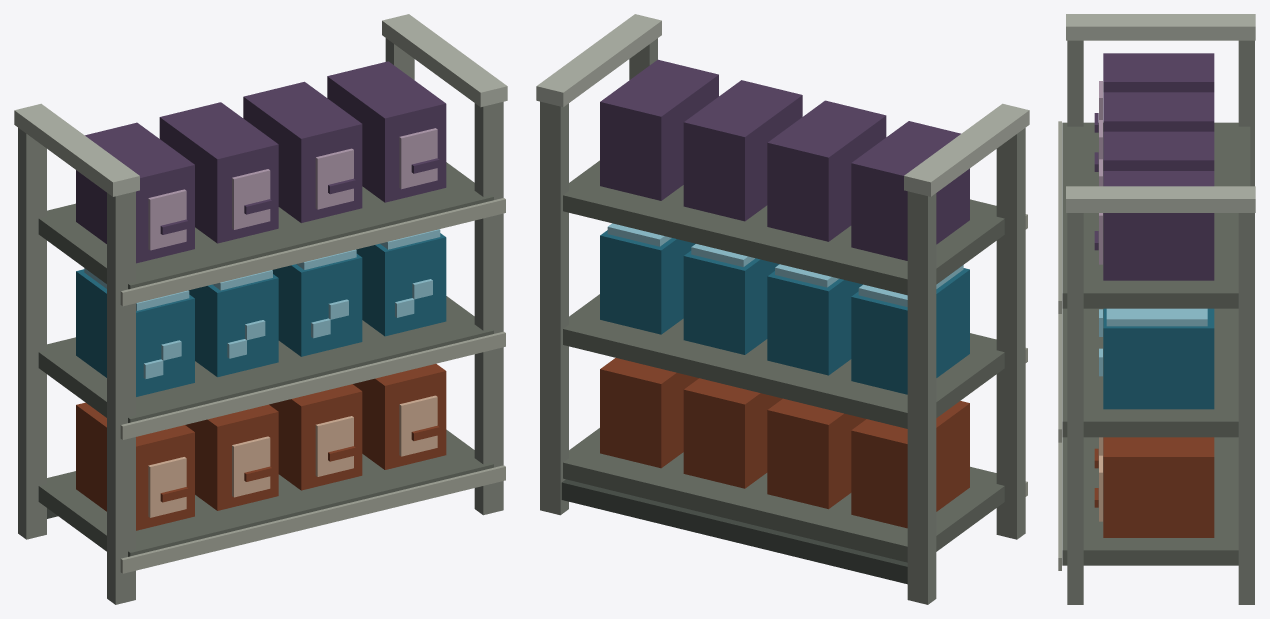
File: CMU3DWeymartShelf7.glb
3 views of the same model, side by side, from view 1: azimuth 30°, elevation 25°; view 2: azimuth 150°, elevation 25°; view 3: azimuth 270°, elevation 25° (orthographic). The views are drawn at different scales.
Visible parts, largest first — view 1: product carton (×12), shelf deck (×3), shelf upright (×4), shelf pale front lip (×3), printed product label (×8), top end cap (×2); view 2: product carton (×12), shelf deck (×3), shelf upright (×3), top end cap (×2), rear base stretcher, folded packet top (×4); view 3: product carton (×6), shelf deck (×3), shelf upright (×4), top end cap (×2), folded packet top, shelf pale front lip (×3).
Part boxes in pixels (x1=…): product carton (×12): x1=76, y1=61, x2=446, y2=530; shelf deck (×3): x1=38, y1=162, x2=493, y2=556; shelf upright (×4): x1=18, y1=38, x2=503, y2=604; shelf pale front lip (×3): x1=120, y1=198, x2=505, y2=573; printed product label (×8): x1=148, y1=128, x2=437, y2=517; top end cap (×2): x1=14, y1=14, x2=507, y2=196; product carton (×12): x1=600, y1=59, x2=969, y2=528; shelf deck (×3): x1=563, y1=160, x2=1004, y2=562; shelf upright (×3): x1=540, y1=101, x2=1025, y2=604; top end cap (×2): x1=536, y1=14, x2=1029, y2=196; rear base stretcher: x1=561, y1=479, x2=907, y2=584; folded packet top (×4): x1=607, y1=223, x2=963, y2=306; product carton (×6): x1=1103, y1=53, x2=1214, y2=537; shelf deck (×3): x1=1062, y1=122, x2=1250, y2=565; shelf upright (×4): x1=1067, y1=40, x2=1254, y2=604; top end cap (×2): x1=1066, y1=14, x2=1255, y2=212; folded packet top: x1=1106, y1=308, x2=1207, y2=326; shelf pale front lip (×3): x1=1058, y1=121, x2=1061, y2=570.
Size of the model in its own units: 0.966 by 0.9914 by 0.4356.
